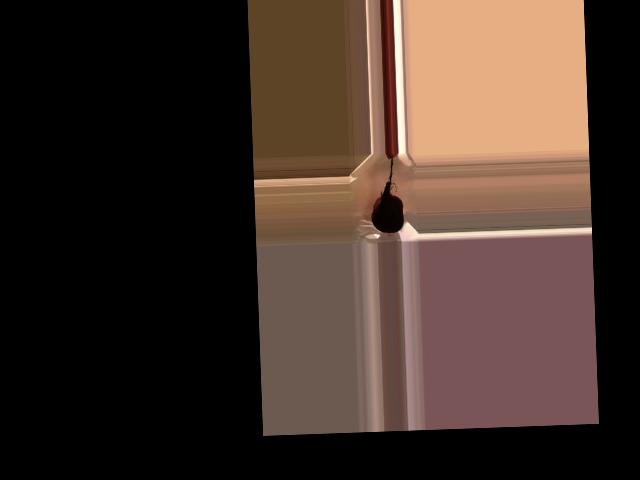beet: (368, 155, 403, 233)
